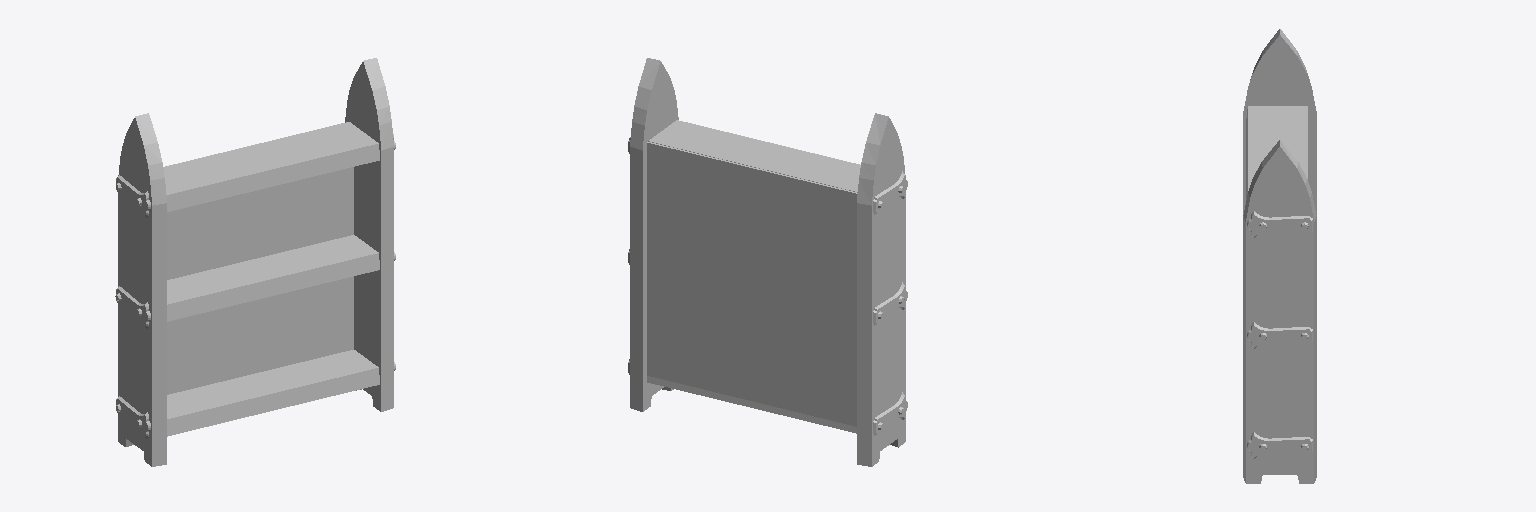
The model's file is Shelf_Arch.obj.
3 renders of one model, left to right at view 1: azimuth 30°, elevation 25°; view 2: azimuth 150°, elevation 25°; view 3: azimuth 270°, elevation 25°, orthographic.
Visible parts, largest first — view 1: Shelf_Arch_Cylinder.032; view 2: Shelf_Arch_Cylinder.032; view 3: Shelf_Arch_Cylinder.032.
Boxes of the visible parts, x1,y1,x2,y2 form: Shelf_Arch_Cylinder.032: [115, 58, 395, 466]; Shelf_Arch_Cylinder.032: [628, 58, 907, 466]; Shelf_Arch_Cylinder.032: [1243, 29, 1316, 483].
Bounding box in the file's own units: 1.25 × 1.59 × 0.3116.